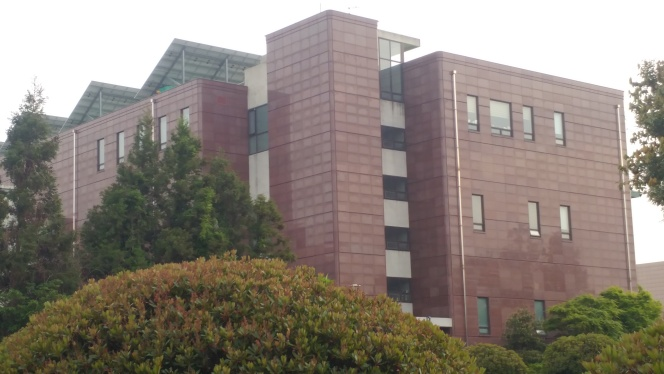Museum: (14, 19, 624, 329), (263, 12, 634, 290), (11, 16, 261, 259), (408, 51, 543, 344), (273, 15, 409, 266)
